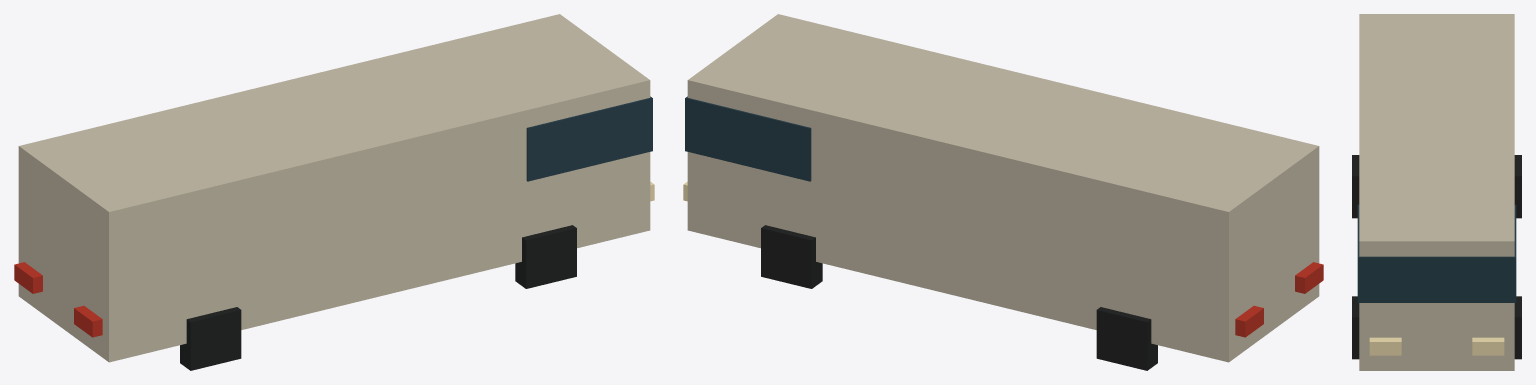
File: traffic-van-2.glb
The picture shows the model from 3 angles, left to right: view 1: azimuth 30°, elevation 25°; view 2: azimuth 150°, elevation 25°; view 3: azimuth 270°, elevation 25°; orthographic projection. The views are drawn at different scales.
Bounding box in the file's own units: 6.65 × 1.98 × 2.02.
